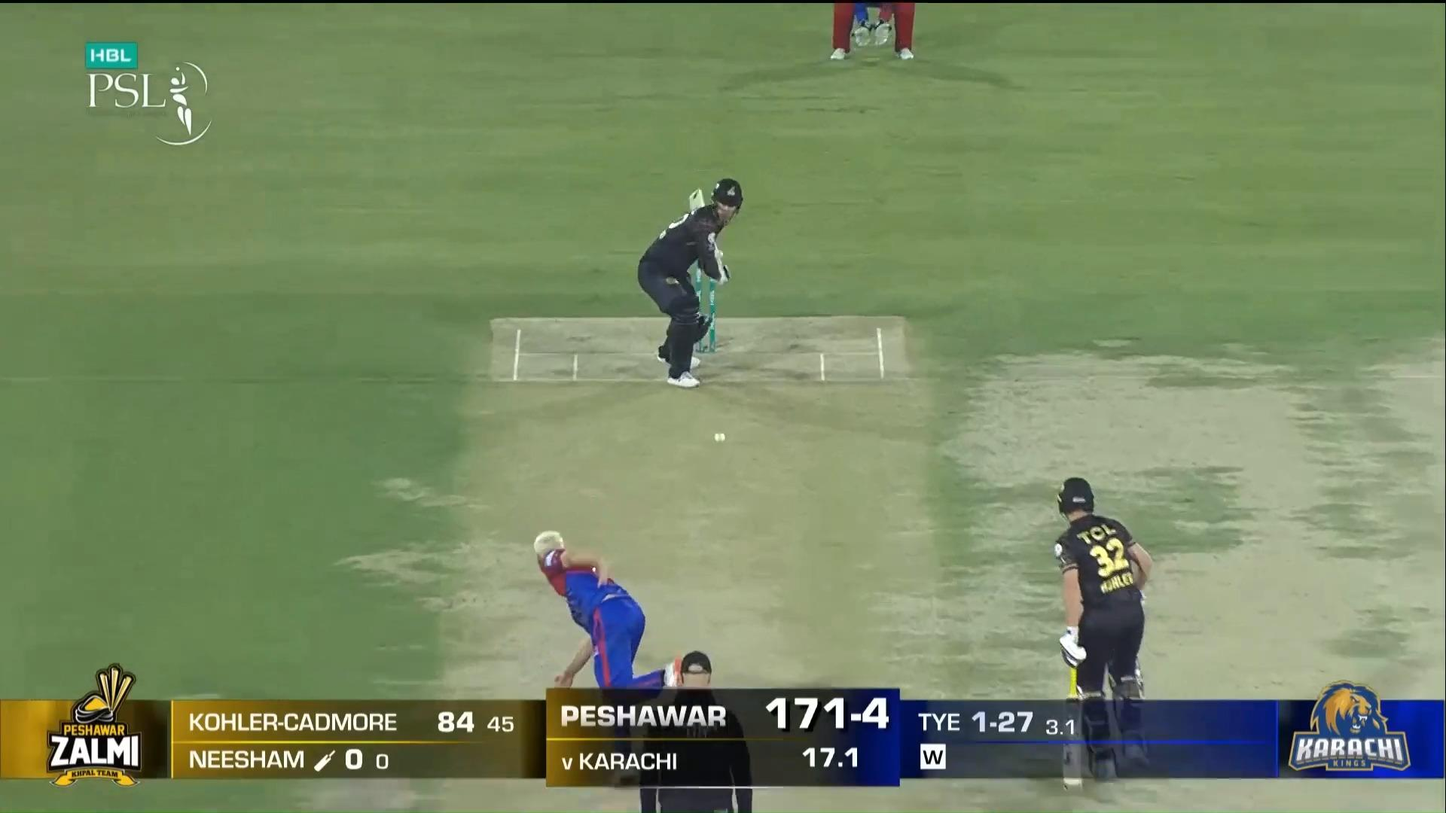batsman: (637, 178, 744, 388)
